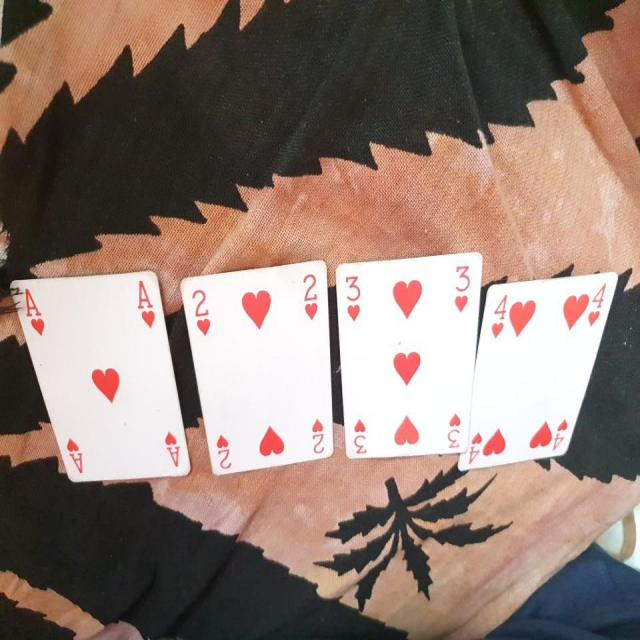2 Hearts: (174, 252, 337, 482)
3 Hearts: (334, 246, 490, 471)
4 Hearts: (458, 268, 622, 476)
A Hearts: (6, 268, 196, 490)
